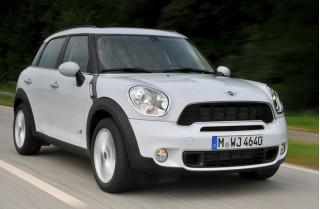mini: (219, 87, 243, 100)
